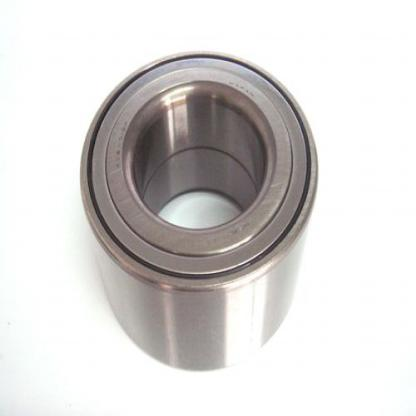FOD: (76, 45, 327, 381)
